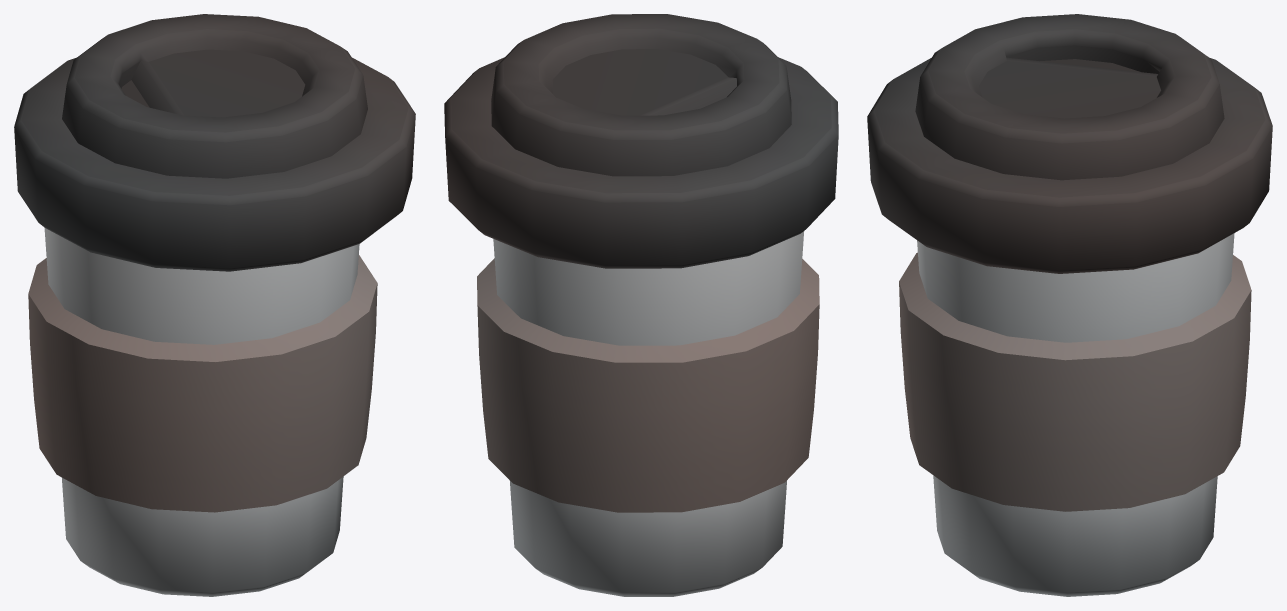
The model's file is coffee_003.fbx.
3 views of the same model, side by side, from view 1: azimuth 30°, elevation 25°; view 2: azimuth 150°, elevation 25°; view 3: azimuth 270°, elevation 25° (orthographic).
Visible parts, largest first — view 1: coffee_003; view 2: coffee_003; view 3: coffee_003.
Boxes of the visible parts, x1,y1,x2,y2 form: coffee_003: (14, 14, 415, 596); coffee_003: (444, 14, 838, 596); coffee_003: (867, 14, 1272, 596).
Bounding box in the file's own units: 11.62 × 11.62 × 14.97.
